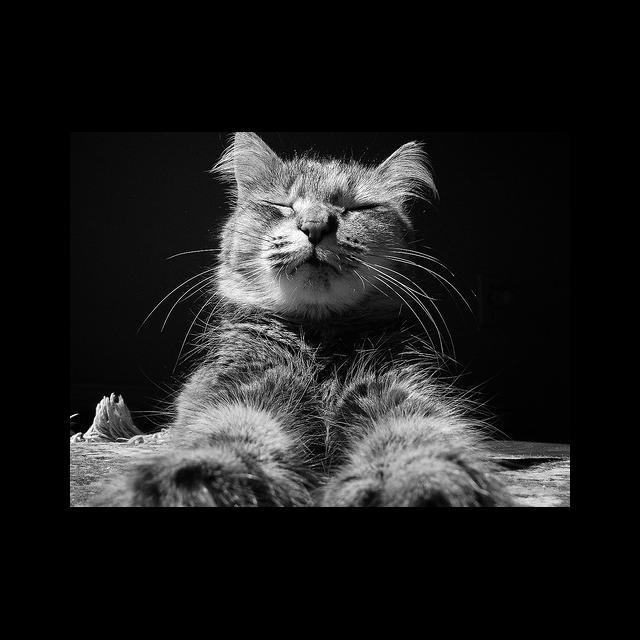animals: (240, 132, 418, 242)
